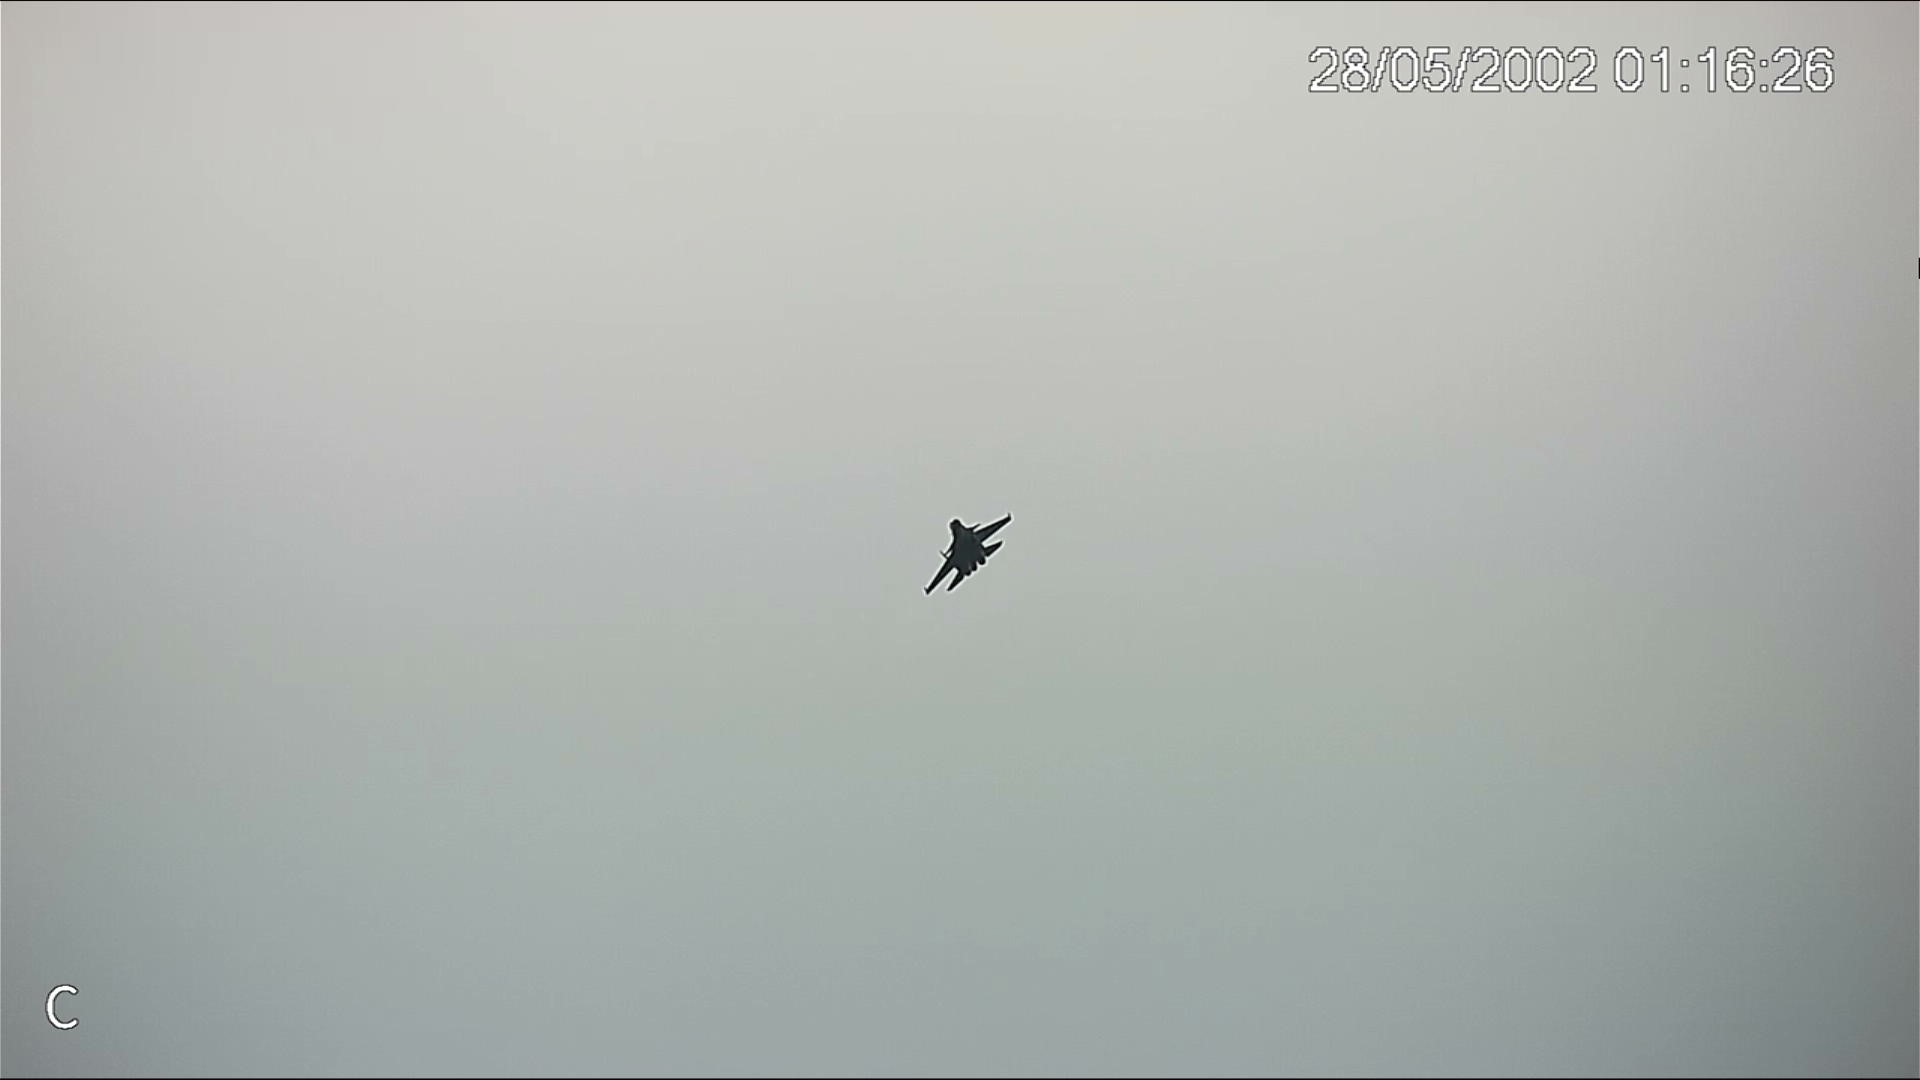SU_30: (923, 512, 1015, 599)
